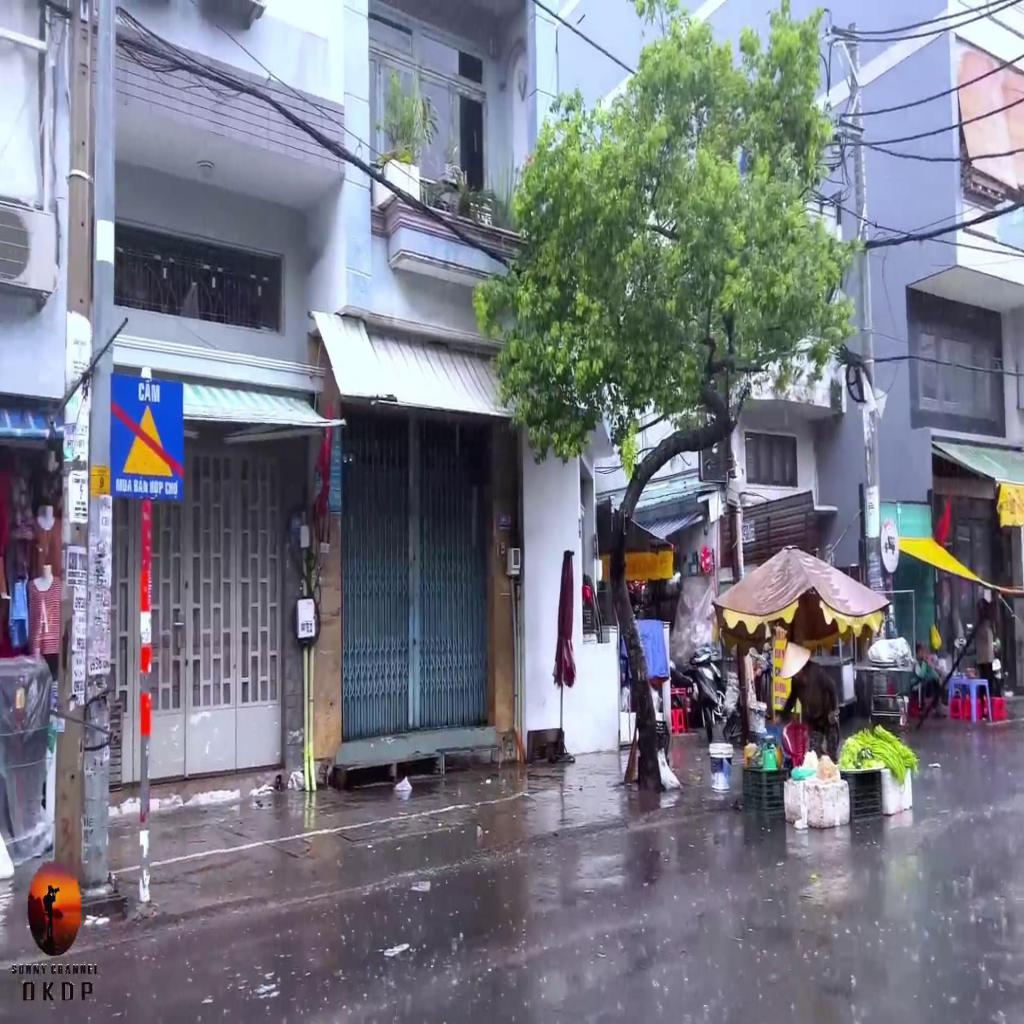cam_o_to_tai: (880, 520, 900, 574)
khac: (109, 374, 184, 500)
